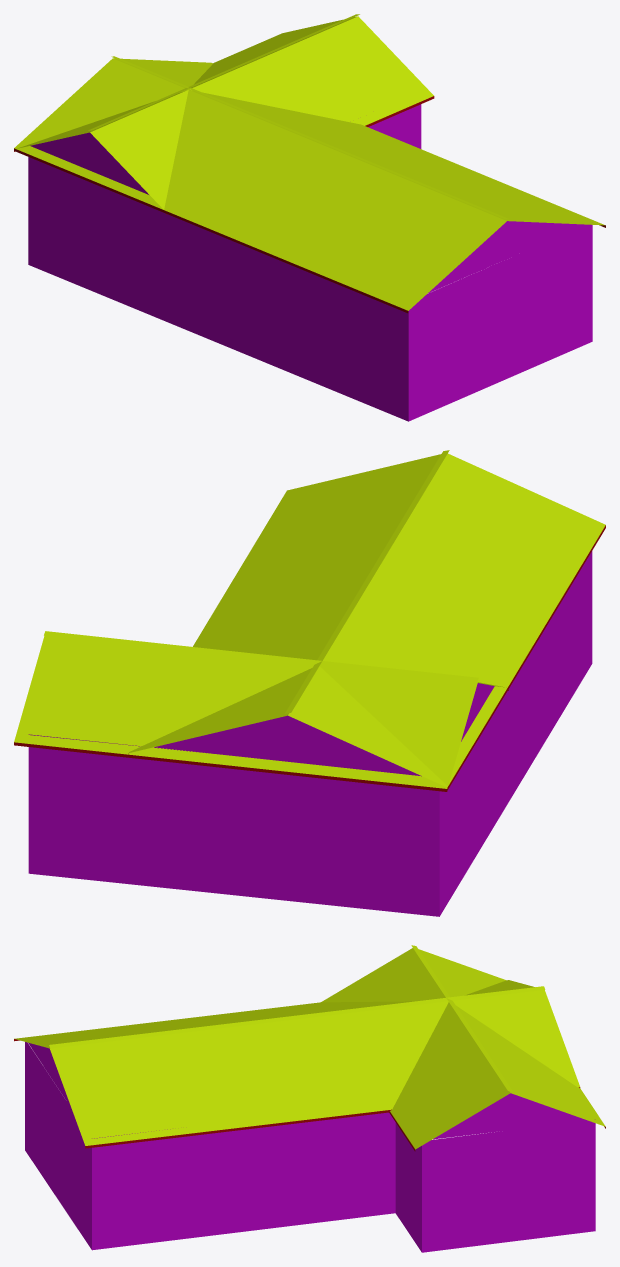
Rendered from dol_43.glb.
3 views of the same model, one above another, from view 1: azimuth 30°, elevation 25°; view 2: azimuth 150°, elevation 25°; view 3: azimuth 270°, elevation 25° (orthographic). The views are drawn at different scales.
Parts seen in each view (by area): view 1: dol_43; view 2: dol_43; view 3: dol_43.
Part boxes in pixels (<box>): dol_43: <box>14,14,605,421</box>; dol_43: <box>14,450,605,916</box>; dol_43: <box>14,945,605,1252</box>.
Size of the model in its own units: 17.65 by 7.57 by 26.21.
